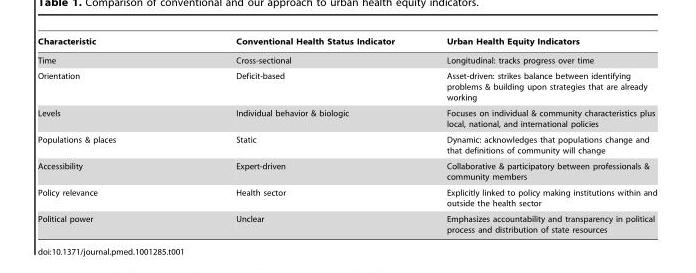table: (37, 36, 656, 233)
table column: (175, 36, 420, 233), (420, 36, 656, 233), (37, 36, 175, 233)
table column header: (37, 36, 656, 50)
table row: (37, 67, 656, 105), (37, 131, 656, 158), (37, 105, 656, 131), (37, 158, 656, 184), (37, 184, 656, 210), (37, 210, 656, 233), (37, 50, 656, 67), (37, 36, 656, 50)
